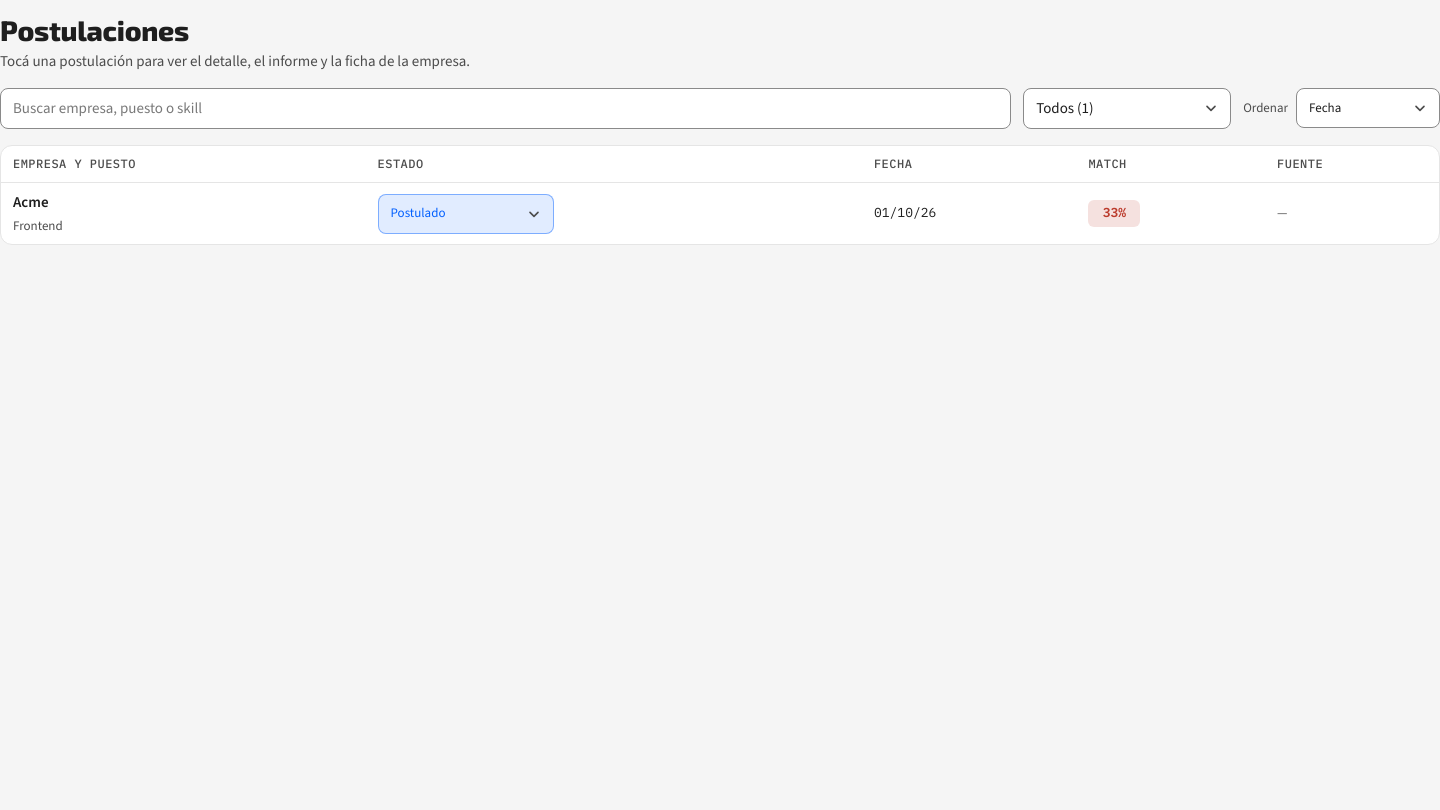
Scenario: ApplicationsTab › detail drawer › detects the source from a pasted link
The image size is (1440, 810).
Step 1. Click the text "Acme" → coordinates (31, 202), box [13,192,49,212]
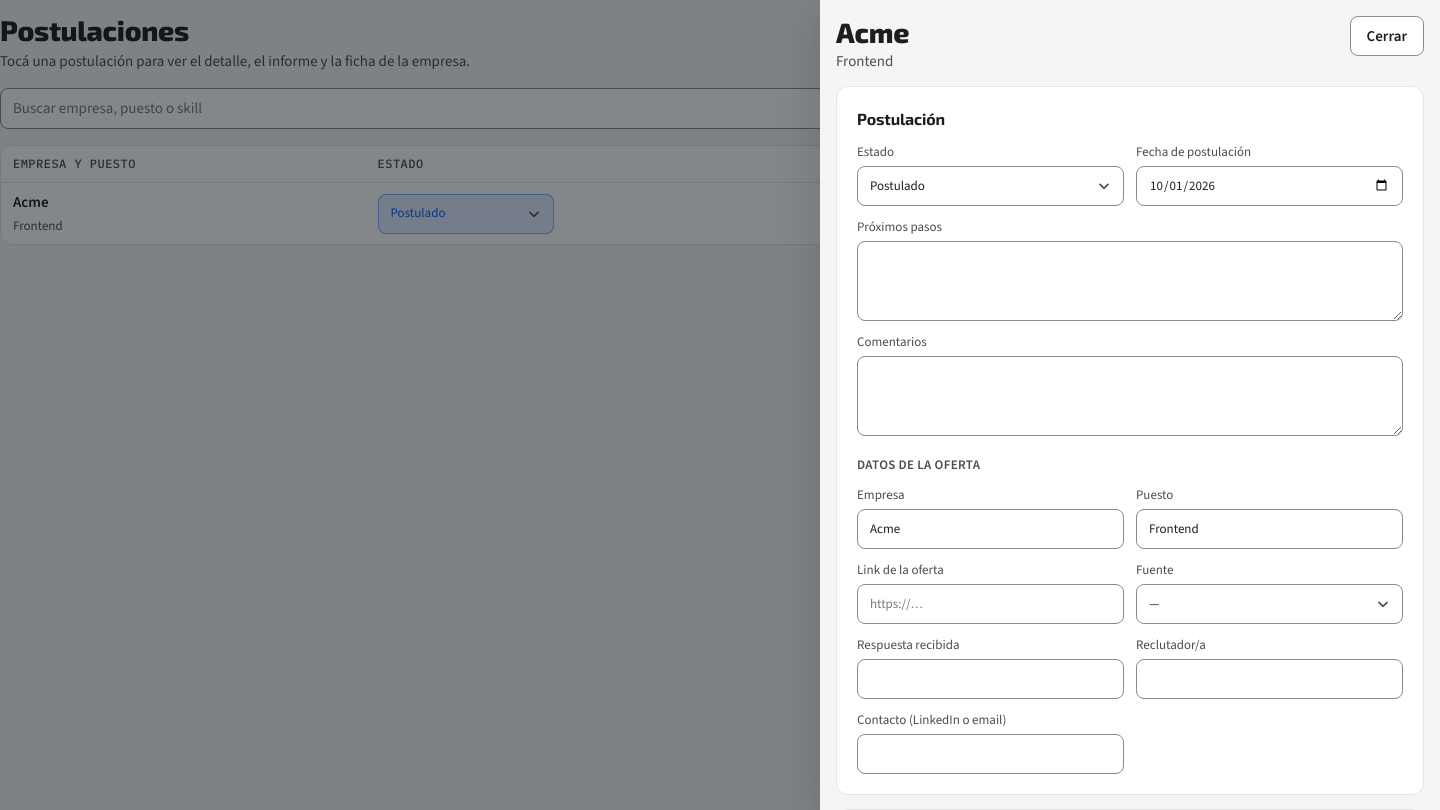
Step 2. Type "https://www.linkedin.com/jobs/view/9" into the field labelled "Link de la oferta" → coordinates (990, 604), box [857,584,1124,624]
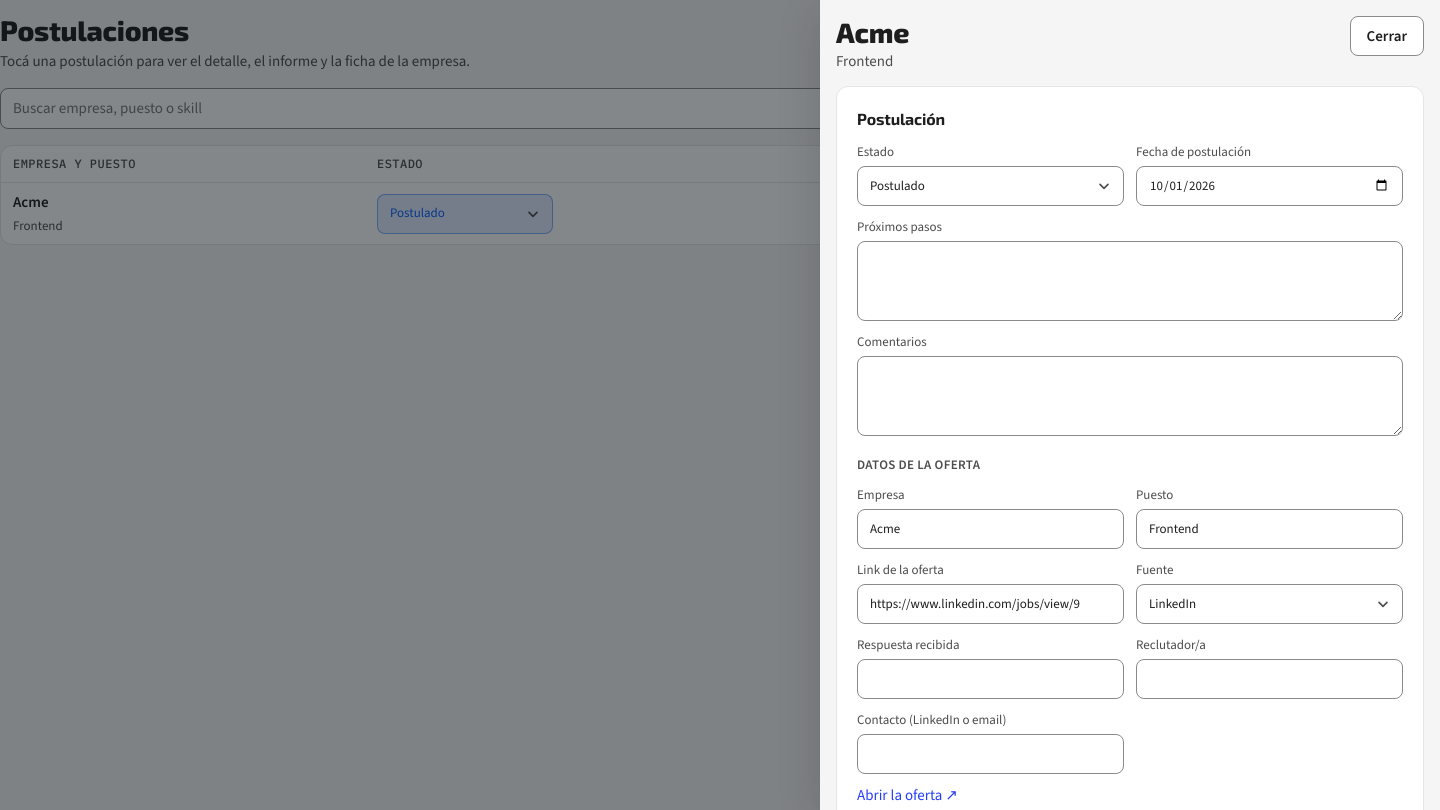
Expected: the cell "LinkedIn" is shown, [1263,183,1439,244]
Expected: the link "Abrir la oferta ↗" is shown, [857,785,958,805]
